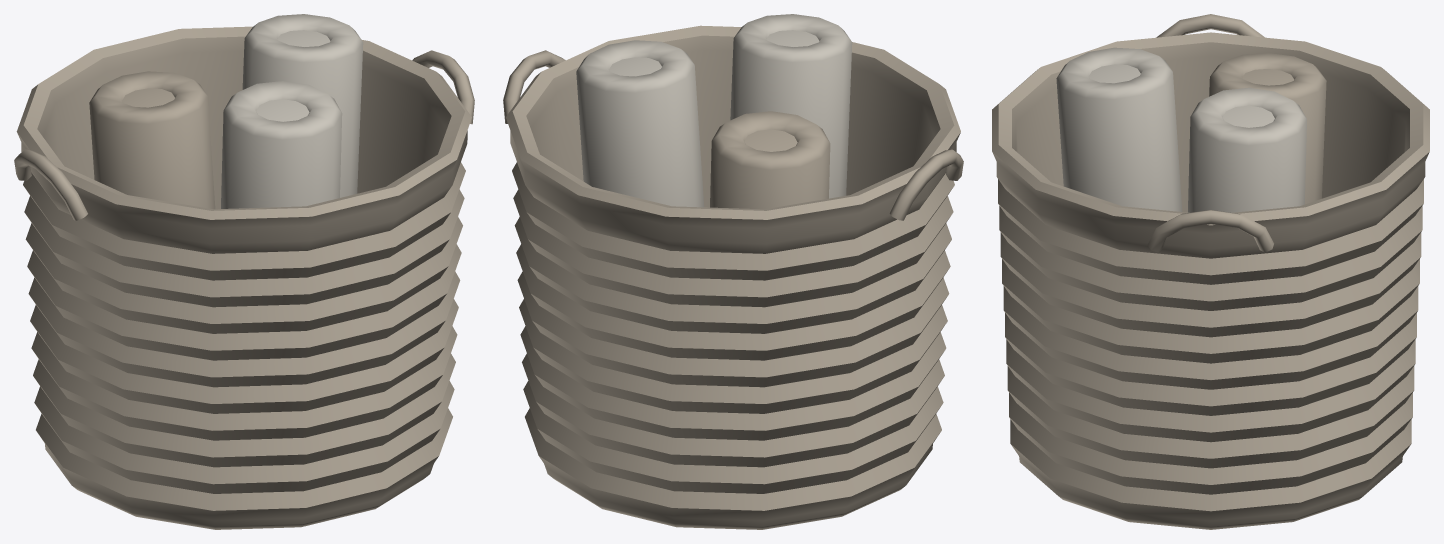
File: decor_d_basket.gltf
3 views of the same model, side by side, from view 1: azimuth 30°, elevation 25°; view 2: azimuth 150°, elevation 25°; view 3: azimuth 270°, elevation 25° (orthographic).
Parts seen in each view (by area): view 1: DecorD_Basket_Basket, DecorD_Basket_Ivory_NoCollide, DecorD_Basket_Oat_NoCollide; view 2: DecorD_Basket_Basket, DecorD_Basket_Ivory_NoCollide, DecorD_Basket_Oat_NoCollide; view 3: DecorD_Basket_Basket, DecorD_Basket_Ivory_NoCollide, DecorD_Basket_Oat_NoCollide.
Boxes of the visible parts, x1,y1,x2,y2 form: DecorD_Basket_Basket: (16,26,471,529); DecorD_Basket_Ivory_NoCollide: (221,14,363,208); DecorD_Basket_Oat_NoCollide: (14,50,474,220); DecorD_Basket_Basket: (506,25,960,529); DecorD_Basket_Ivory_NoCollide: (576,14,852,207); DecorD_Basket_Oat_NoCollide: (503,50,963,220); DecorD_Basket_Basket: (992,32,1429,529); DecorD_Basket_Ivory_NoCollide: (1056,47,1306,212); DecorD_Basket_Oat_NoCollide: (1147,14,1326,252).
Size of the model in its own units: 0.4253 by 0.3722 by 0.39.
